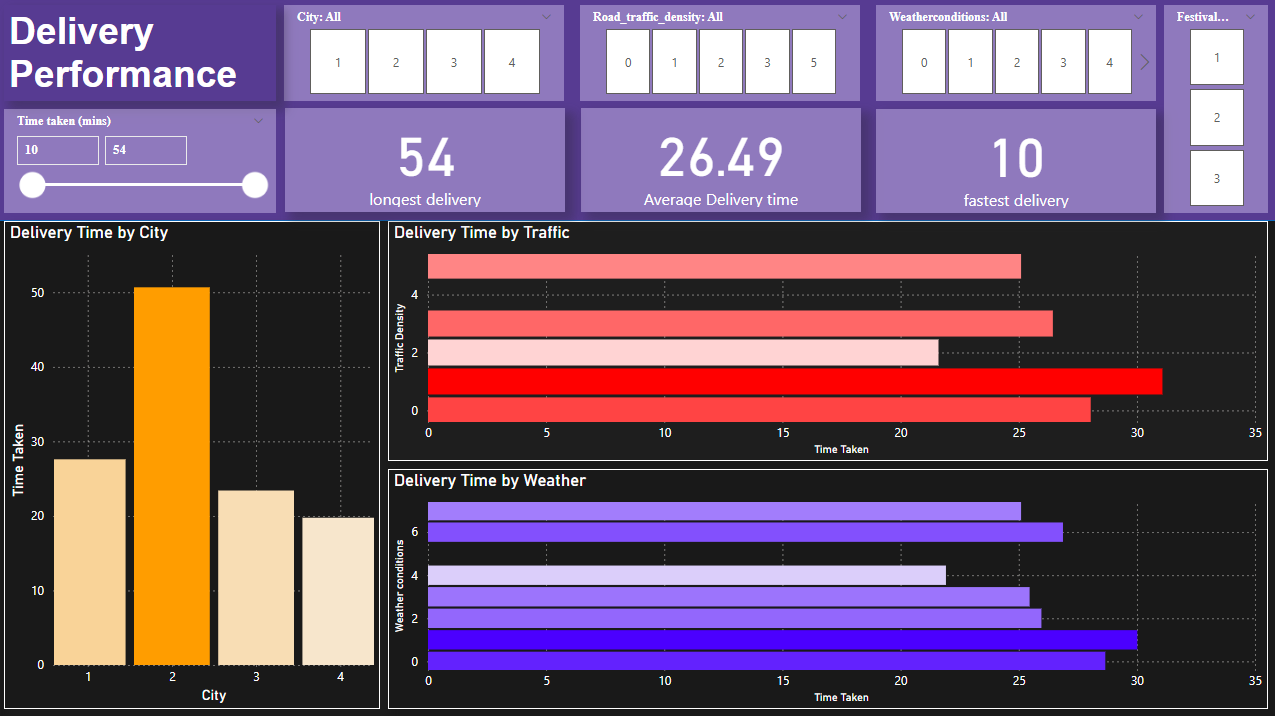

Layout of this report page (visuals, bound fields, positions):
{"tool":"powerbi","page":{"name":"Delivery Performance","canvas":[1280,720],"ordinal":0},"visuals":[{"type":"shape","box":[0,0,1280,224],"z":0},{"type":"columnChart","title":"Delivery Time by City","fields":{"Category":["working data ori.City"],"Y":["working data ori.avg_delivery_time_by_city"]},"box":[8,224,376,488],"z":1000},{"type":"barChart","title":"Delivery Time by Traffic","fields":{"Category":["working data ori.Road_traffic_density"],"Y":["working data ori.avg_delivery_time_by_traffic"]},"box":[392,224,880,240],"z":2000},{"type":"barChart","title":"Delivery Time by Weather","fields":{"Category":["working data ori.Weatherconditions"],"Y":["working data ori.avg_delivery_time_by_weather"]},"box":[392,472,880,240],"z":3000},{"type":"card","fields":{"Values":["working data ori.Average Delivery time"]},"box":[584.8,111.4,280,104],"z":4000},{"type":"card","fields":{"Values":["working data ori.longest delivery"]},"box":[288.8,111.4,280,104],"z":5000},{"type":"card","fields":{"Values":["working data ori.fastest delivery"]},"box":[880,112,280,104],"z":6000},{"type":"slicer","fields":{"Values":["working data ori.City"]},"box":[288,8,280,96],"z":7000},{"type":"slicer","fields":{"Values":["working data ori.Road_traffic_density"]},"box":[584,8,280,96],"z":8000},{"type":"slicer","fields":{"Values":["working data ori.Weatherconditions"]},"box":[880,8,280,96],"z":9000},{"type":"slicer","fields":{"Values":["working data ori.Festival"]},"box":[1168,8,104,208],"z":10000},{"type":"textbox","box":[8,8,272,96],"z":11000},{"type":"slicer","fields":{"Values":["working data ori.Time_taken(min)"]},"box":[8,112,272,104],"z":12000}]}

Visuals, with their boxes in screenshot pixels (x1, y1, x2, y2), scaled from the page's 1280x720 canvas onto the 1275x716 screenshot:
shape: 0, 0, 1274, 223
"Delivery Time by City" columnChart: 8, 223, 382, 708
"Delivery Time by Traffic" barChart: 390, 223, 1267, 461
"Delivery Time by Weather" barChart: 390, 469, 1267, 708
card - working data ori.Average Delivery time: 583, 111, 861, 214
card - working data ori.longest delivery: 288, 111, 567, 214
card - working data ori.fastest delivery: 877, 111, 1155, 215
slicer - working data ori.City: 287, 8, 566, 103
slicer - working data ori.Road_traffic_density: 582, 8, 861, 103
slicer - working data ori.Weatherconditions: 877, 8, 1155, 103
slicer - working data ori.Festival: 1163, 8, 1267, 215
textbox: 8, 8, 279, 103
slicer - working data ori.Time_taken(min): 8, 111, 279, 215
